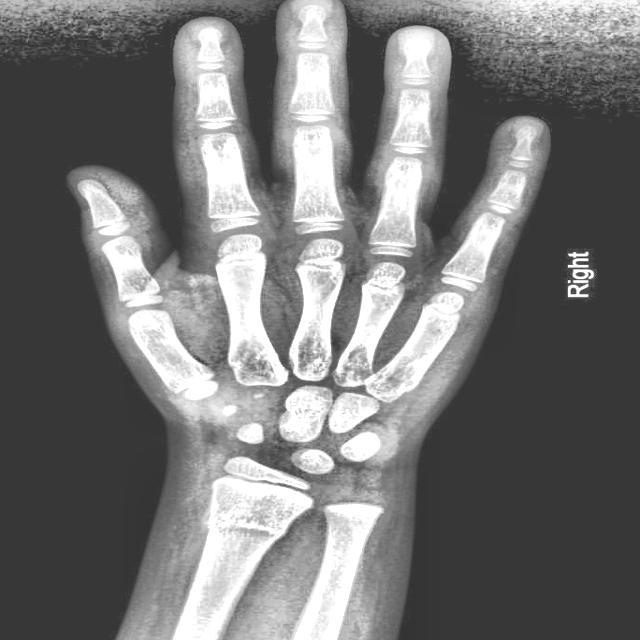fracture: (198, 523, 286, 540)
